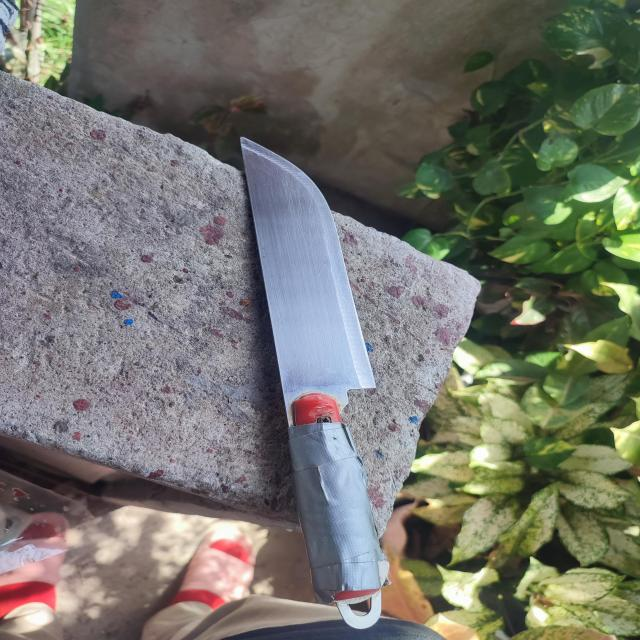knife: (241, 137, 388, 626)
